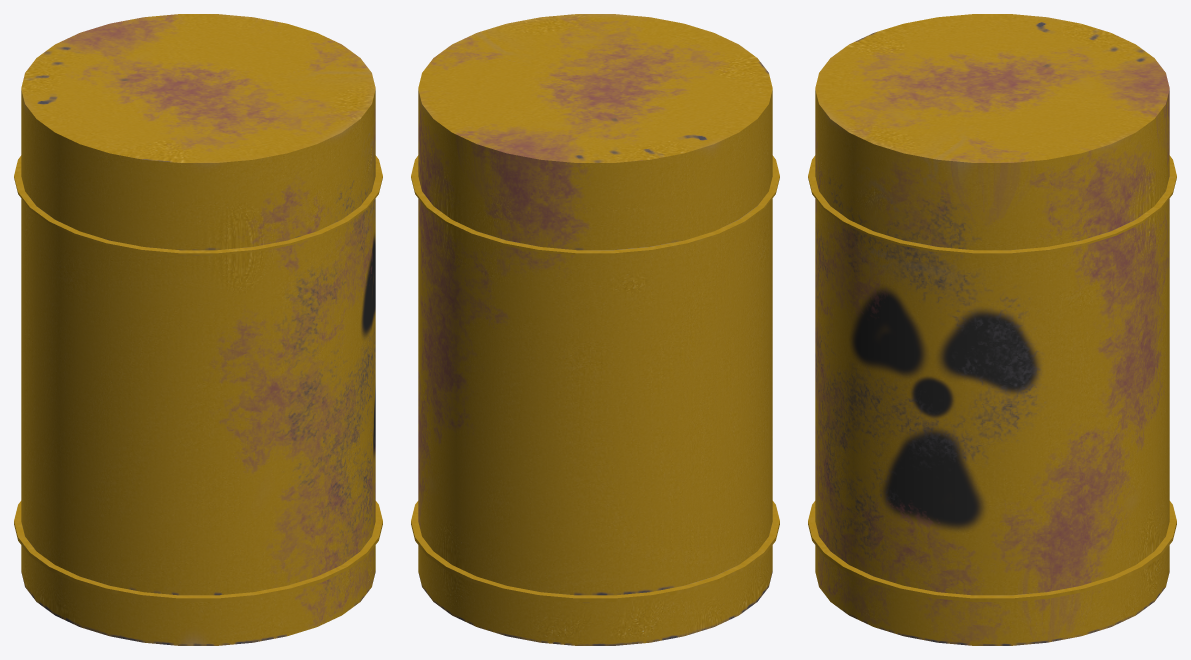
Rendered from New Waste Barrel.fbx.
3 renders of one model, left to right at view 1: azimuth 30°, elevation 25°; view 2: azimuth 150°, elevation 25°; view 3: azimuth 270°, elevation 25°, orthographic.
Visible parts, largest first — view 1: Cylinder.001; view 2: Cylinder.001; view 3: Cylinder.001.
Boxes of the visible parts, x1,y1,x2,y2 form: Cylinder.001: (14,14,382,645); Cylinder.001: (411,14,779,645); Cylinder.001: (808,14,1176,645).
Size of the model in its own units: 43.22 by 62.78 by 43.46.
